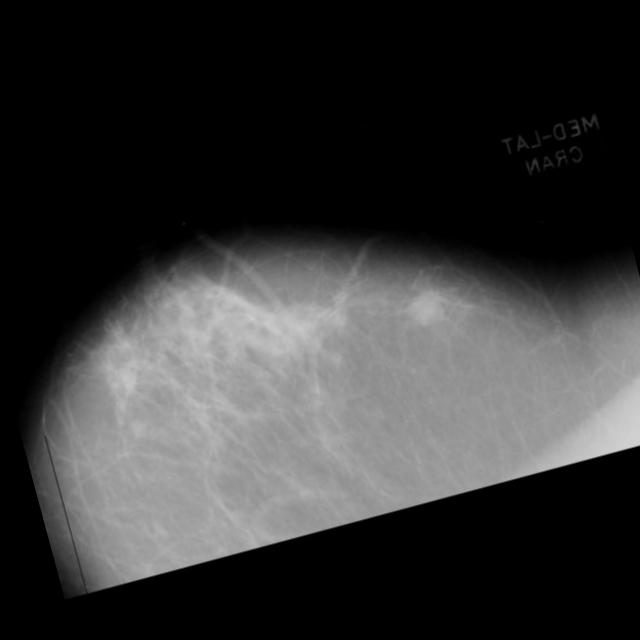CIRC: (404, 286, 448, 330)
